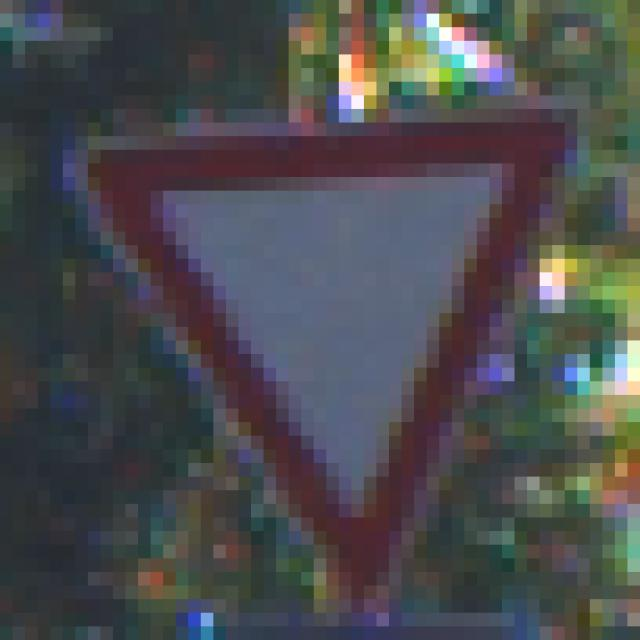Give Way: (76, 83, 566, 573)
